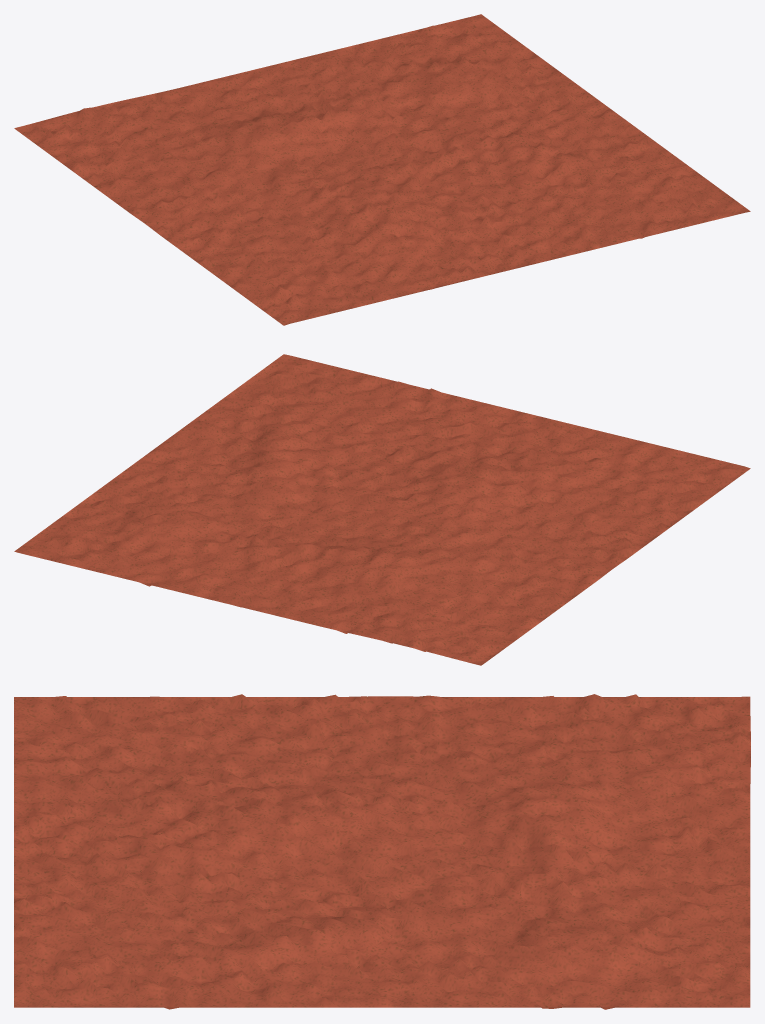
The model's file is SmallerTile02.obj.
3 renders of one model, top to bottom at view 1: azimuth 30°, elevation 25°; view 2: azimuth 150°, elevation 25°; view 3: azimuth 270°, elevation 25°, orthographic. The views are drawn at different scales.
Visible parts, largest first — view 1: Plane.002; view 2: Plane.002; view 3: Plane.002.
Boxes of the visible parts, x1=… form: Plane.002: x1=14, y1=14, x2=750, y2=325; Plane.002: x1=14, y1=354, x2=750, y2=665; Plane.002: x1=14, y1=694, x2=750, y2=1009.
Bounding box in the file's own units: 26 × 0.9981 × 26.03.
